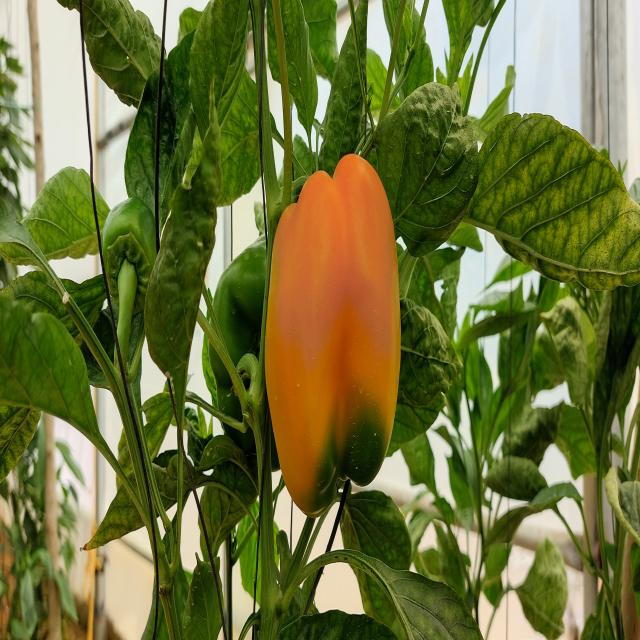Yellow-Ready-to-Harvest: (266, 152, 403, 511)
